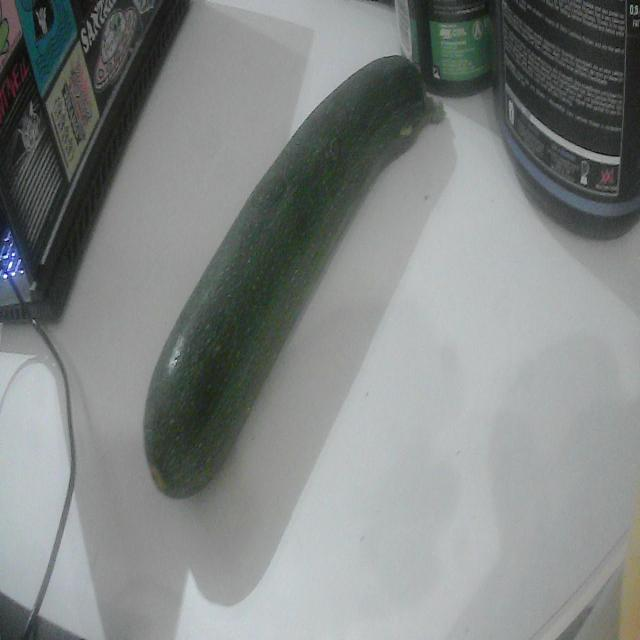Courgette: (144, 59, 424, 498)
